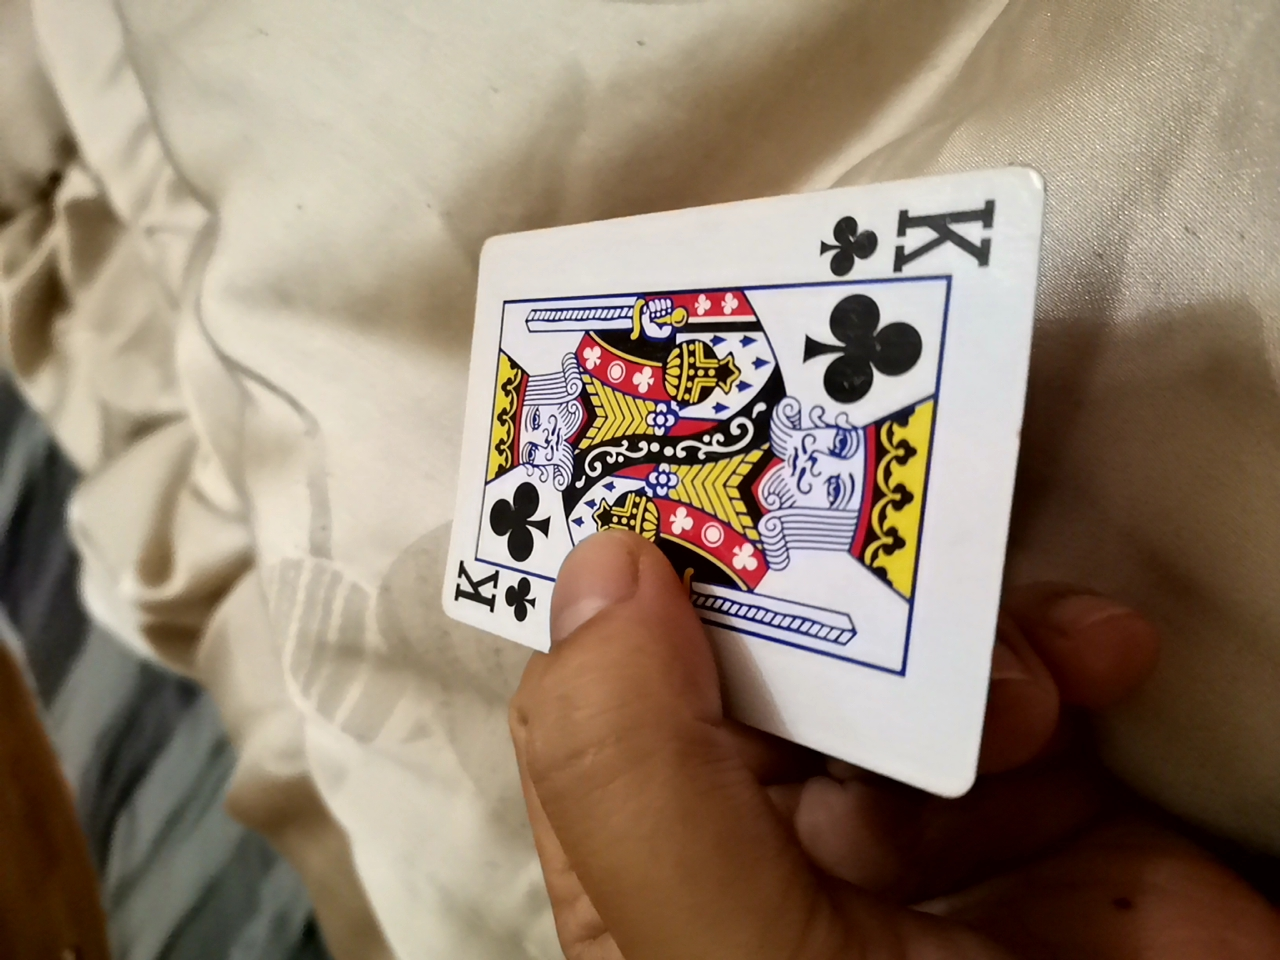mh k: (400, 164, 1053, 793)
